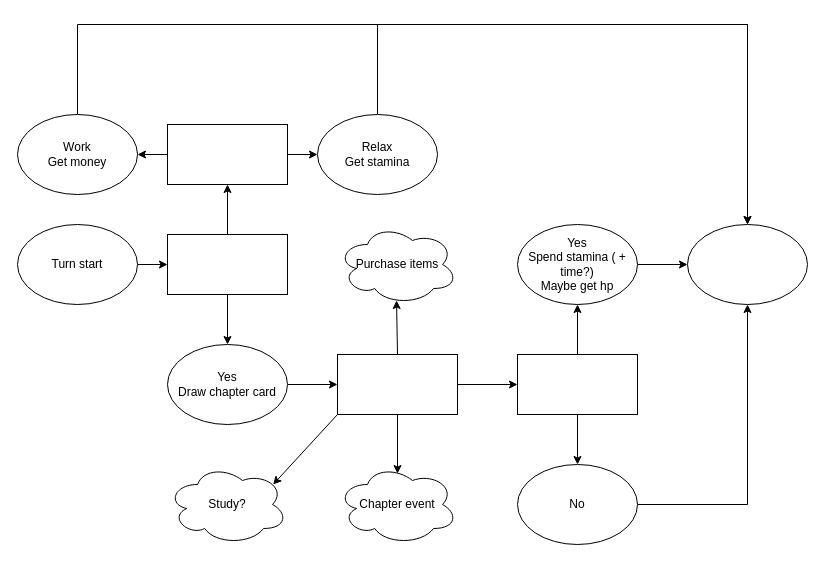
Image size: 825x562. Some labels were removed from this diagram. The centre of each missing label's shape, as x and y in pixels:
Attempt assignment?: point (577, 384)
Draw assignment card Take assignment?: point (227, 264)
No Work or relax?: point (227, 154)
Take actions based on options: point (397, 384)
Turn end: point (747, 264)
